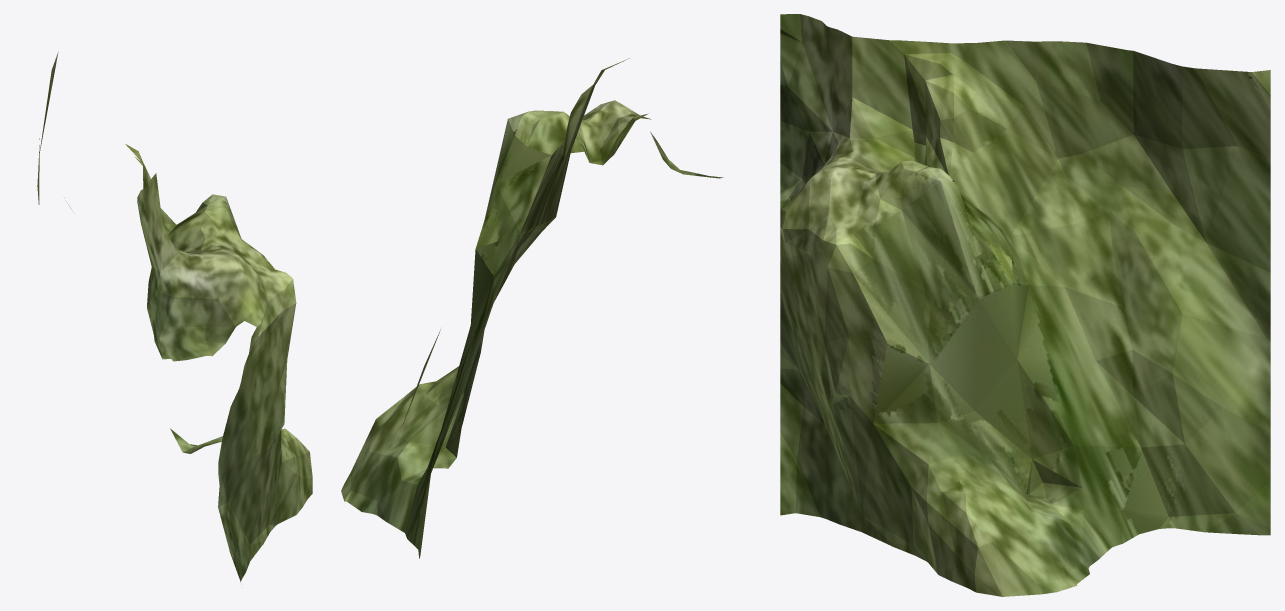
3 renders of one model, left to right at view 1: azimuth 30°, elevation 25°; view 2: azimuth 150°, elevation 25°; view 3: azimuth 270°, elevation 25°, orthographic. The views are drawn at different scales.
Size of the model in its own units: 1.98 by 2.95 by 2.95.
3 materials, 3 textured.
